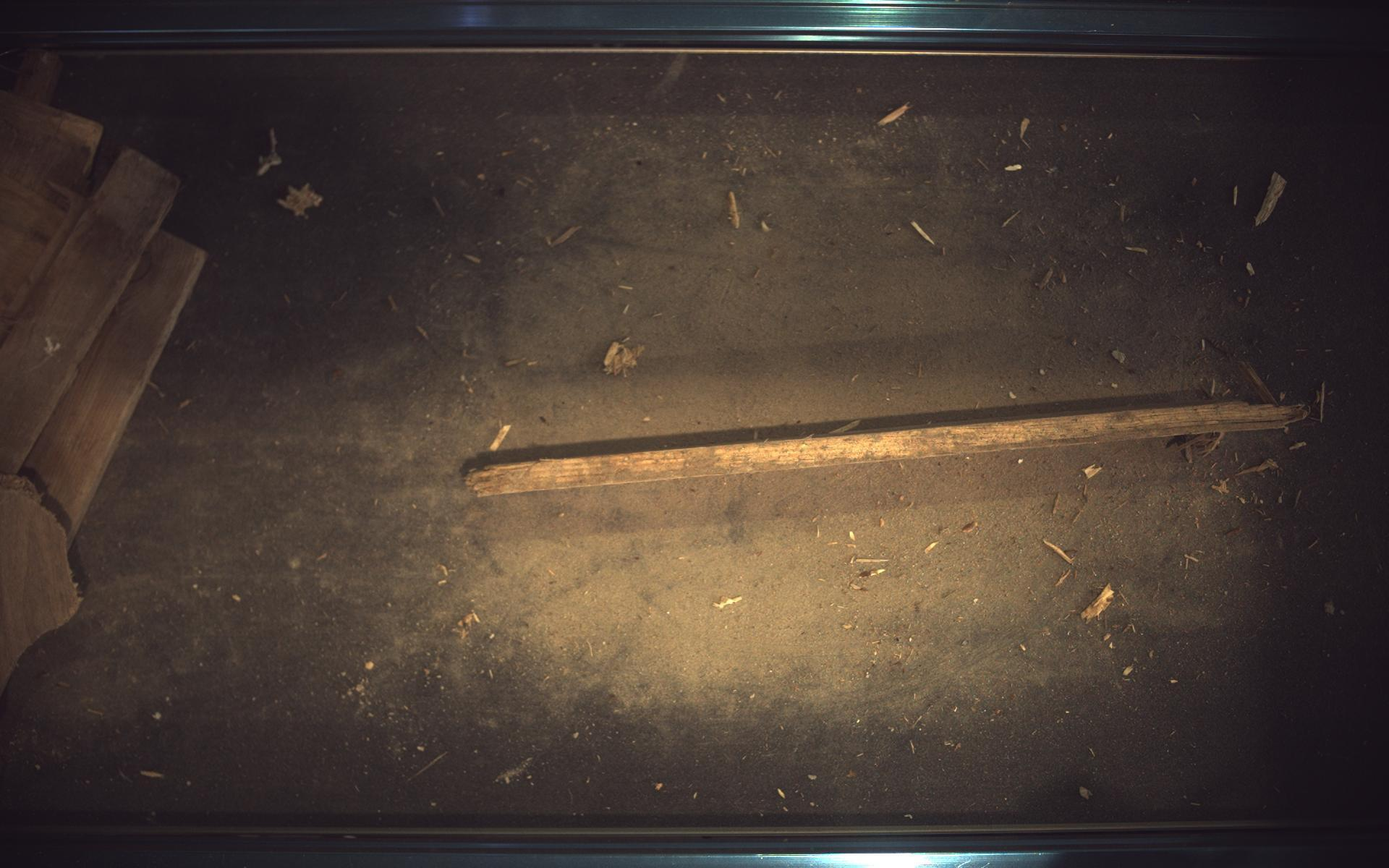wood: (464, 395, 1312, 497)
